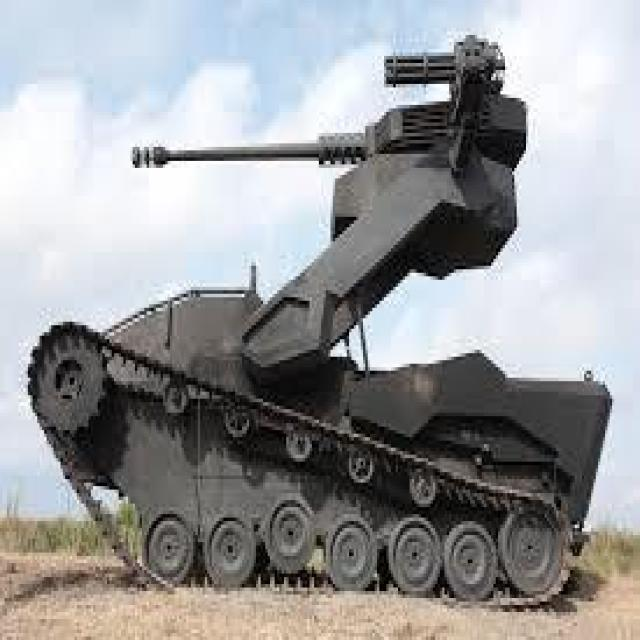Tanks: (22, 63, 606, 598)
